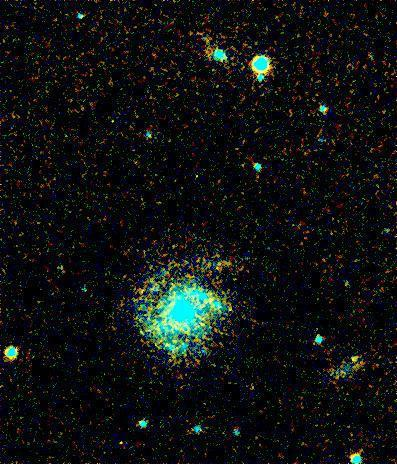star: (341, 343, 371, 373)
